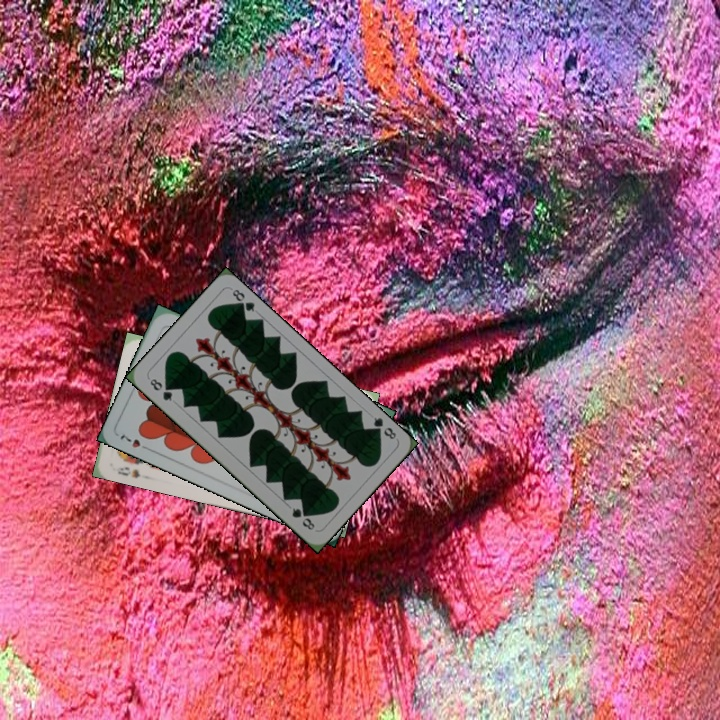G8: (367, 413, 399, 442), (146, 374, 175, 404)
H7: (116, 431, 153, 453)
S8: (109, 462, 143, 481)
